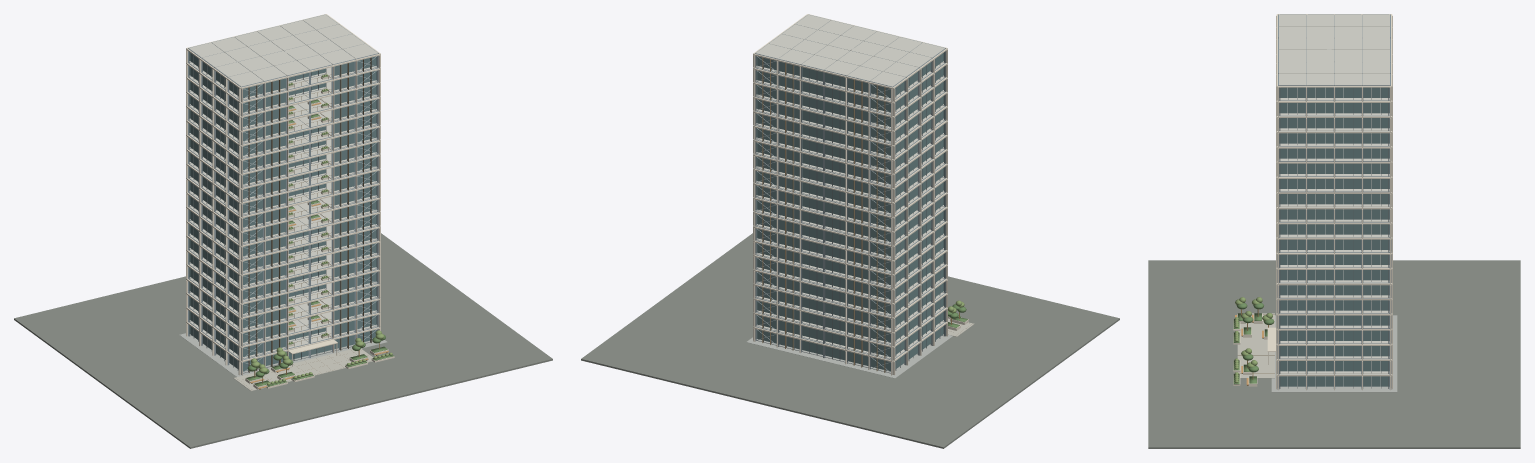
The model's file is planned-architecture.glb.
3 renders of one model, left to right at view 1: azimuth 30°, elevation 25°; view 2: azimuth 150°, elevation 25°; view 3: azimuth 270°, elevation 25°, orthographic. The views are drawn at different scales.
Visible parts, largest first — view 1: PlannedGround_Gravel, FloorCassettes_Deck.019, LandscapedForecourt_Paving, FacadeModules_Glass.004, FacadeModules_Glass.012, FacadeModules_Glass.011, FacadeModules_Glass.014, FacadeModules_Glass.013, FacadeModules_Glass.006, FacadeModules_Glass.007, FacadeModules_Glass.019, FacadeModules_Glass.001 (+55 smaller); view 2: PlannedGround_Gravel, FloorCassettes_Deck.019, FacadeModules_Glass.017, FacadeModules_Glass.004, FacadeModules_Glass.009, FacadeModules_Glass.013, FacadeModules_Glass.012, FacadeModules_Glass.007, FacadeModules_Glass.014, FacadeModules_Glass.011, FacadeModules_Glass.015, FacadeModules_Glass.001 (+32 smaller); view 3: PlannedGround_Gravel, FloorCassettes_Deck.019, LandscapedForecourt_Paving, PlannedGround_Concrete, FacadeModules_Glass.010, FacadeModules_Glass.011, FacadeModules_Glass.016, FacadeModules_Glass.012, FacadeModules_Glass.015, FacadeModules_Glass.017, FacadeModules_Glass.018, FacadeModules_Glass.014 (+46 smaller).
Part boxes in pixels (x1,y1,x2,y2): PlannedGround_Gravel: (14, 233, 552, 448); FloorCassettes_Deck.019: (188, 14, 378, 86); LandscapedForecourt_Paving: (233, 348, 373, 391); FacadeModules_Glass.004: (189, 268, 376, 313); FacadeModules_Glass.012: (189, 153, 376, 198); FacadeModules_Glass.011: (189, 167, 376, 213); FacadeModules_Glass.014: (189, 124, 376, 170); FacadeModules_Glass.013: (189, 138, 376, 184); FacadeModules_Glass.006: (189, 239, 376, 285); FacadeModules_Glass.007: (189, 225, 376, 270); FacadeModules_Glass.019: (189, 52, 376, 98); FacadeModules_Glass.001: (189, 311, 376, 356); PlannedGround_Gravel: (581, 233, 1119, 448); FloorCassettes_Deck.019: (755, 14, 945, 86); FacadeModules_Glass.017: (756, 81, 944, 126); FacadeModules_Glass.004: (756, 268, 944, 313); FacadeModules_Glass.009: (756, 196, 944, 241); FacadeModules_Glass.013: (756, 138, 944, 184); FacadeModules_Glass.012: (756, 153, 944, 198); FacadeModules_Glass.007: (756, 225, 944, 270); FacadeModules_Glass.014: (756, 124, 944, 170); FacadeModules_Glass.011: (756, 167, 944, 213); FacadeModules_Glass.015: (756, 110, 944, 155); FacadeModules_Glass.001: (756, 311, 944, 356); PlannedGround_Gravel: (1148, 260, 1520, 448); FloorCassettes_Deck.019: (1279, 14, 1389, 85); LandscapedForecourt_Paving: (1237, 313, 1274, 378); PlannedGround_Concrete: (1271, 315, 1397, 392); FacadeModules_Glass.010: (1279, 224, 1389, 234); FacadeModules_Glass.011: (1279, 209, 1389, 219); FacadeModules_Glass.016: (1279, 133, 1389, 143); FacadeModules_Glass.012: (1279, 194, 1389, 204); FacadeModules_Glass.015: (1279, 148, 1389, 158); FacadeModules_Glass.017: (1279, 118, 1389, 128); FacadeModules_Glass.018: (1279, 103, 1389, 113); FacadeModules_Glass.014: (1279, 163, 1389, 173).
Bounding box in the file's own units: 95 × 72.48 × 80.
